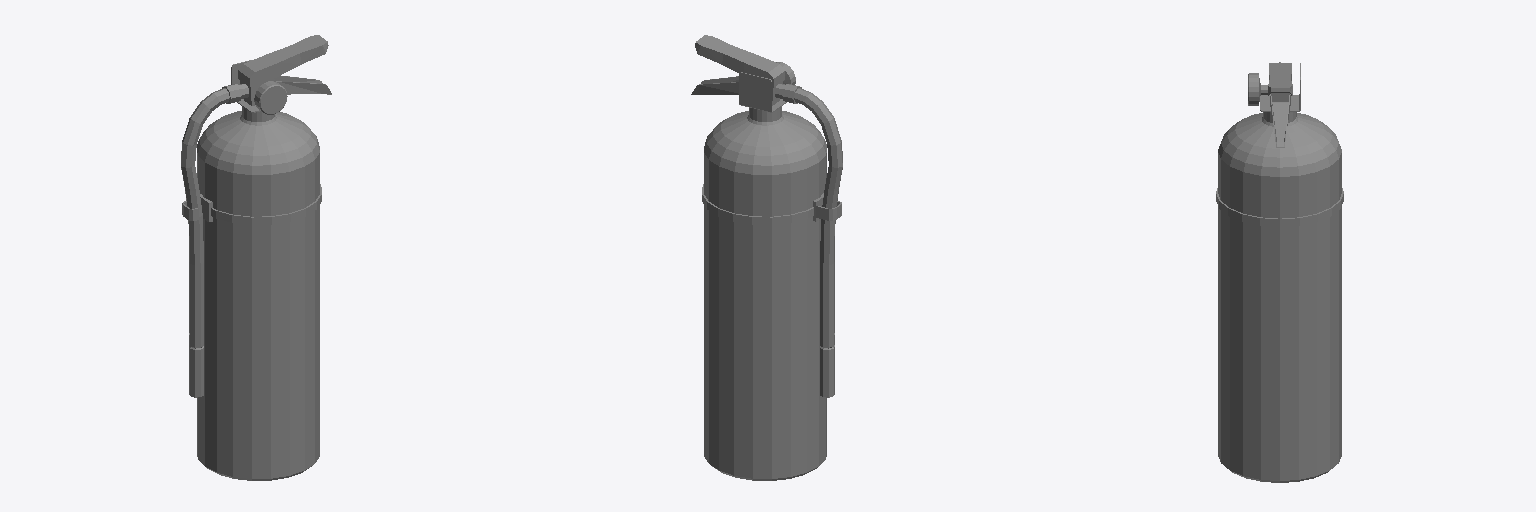
Rendered from FireExt.obj.
The picture shows the model from 3 angles: view 1: azimuth 30°, elevation 25°; view 2: azimuth 150°, elevation 25°; view 3: azimuth 270°, elevation 25°; orthographic projection.
Parts seen in each view (by area): view 1: FireExtinguisher_Mesh; view 2: FireExtinguisher_Mesh; view 3: FireExtinguisher_Mesh.
Boxes of the visible parts, box(x1,y1,x2,y2) form: FireExtinguisher_Mesh: box(181, 35, 331, 480); FireExtinguisher_Mesh: box(691, 35, 842, 480); FireExtinguisher_Mesh: box(1216, 62, 1343, 482).
Bounding box in the file's own units: 1.13 × 2.9 × 0.8386.